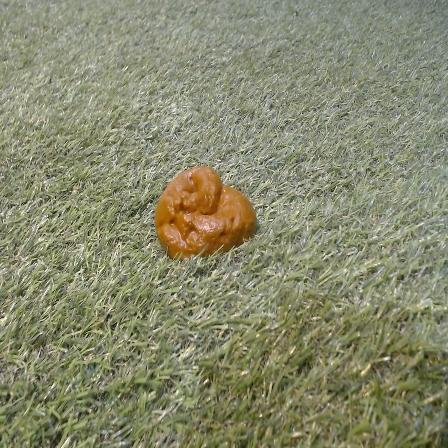dog-poop: (139, 152, 265, 268)
